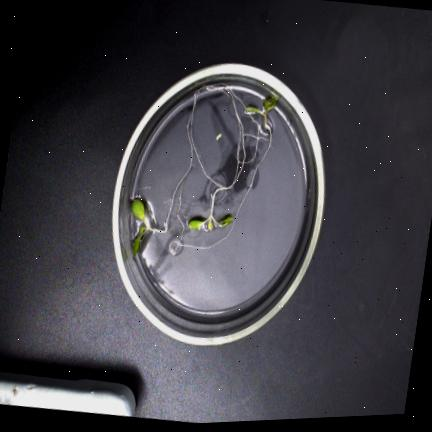leaf1: (246, 105, 262, 113)
leaf2: (264, 95, 278, 112)
leaf3: (215, 213, 232, 227)
leaf4: (208, 220, 213, 230)
leaf5: (189, 219, 206, 228)
leaf6: (133, 235, 141, 255)
leaf7: (132, 199, 145, 220)
root1: (178, 128, 270, 248), (176, 179, 183, 242), (168, 239, 178, 252)
root2: (189, 84, 242, 187), (232, 135, 244, 183), (231, 133, 241, 183), (242, 133, 271, 139), (217, 187, 226, 189)
root3: (164, 88, 199, 225), (206, 82, 258, 162)
stem1: (260, 111, 270, 128)
stem2: (205, 187, 218, 220)
stem3: (142, 219, 166, 233)
